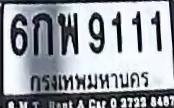1: (150, 11, 161, 52), (112, 11, 122, 53), (132, 11, 142, 53)
6: (10, 13, 26, 55)
9: (87, 11, 104, 53)
A01: (32, 12, 52, 55)
A30: (58, 12, 78, 54)
BKK: (26, 68, 151, 93)
